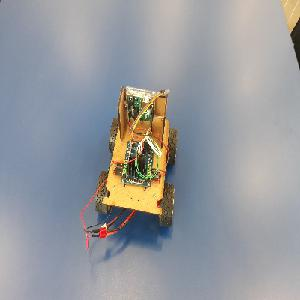Robot: (94, 84, 177, 227)
